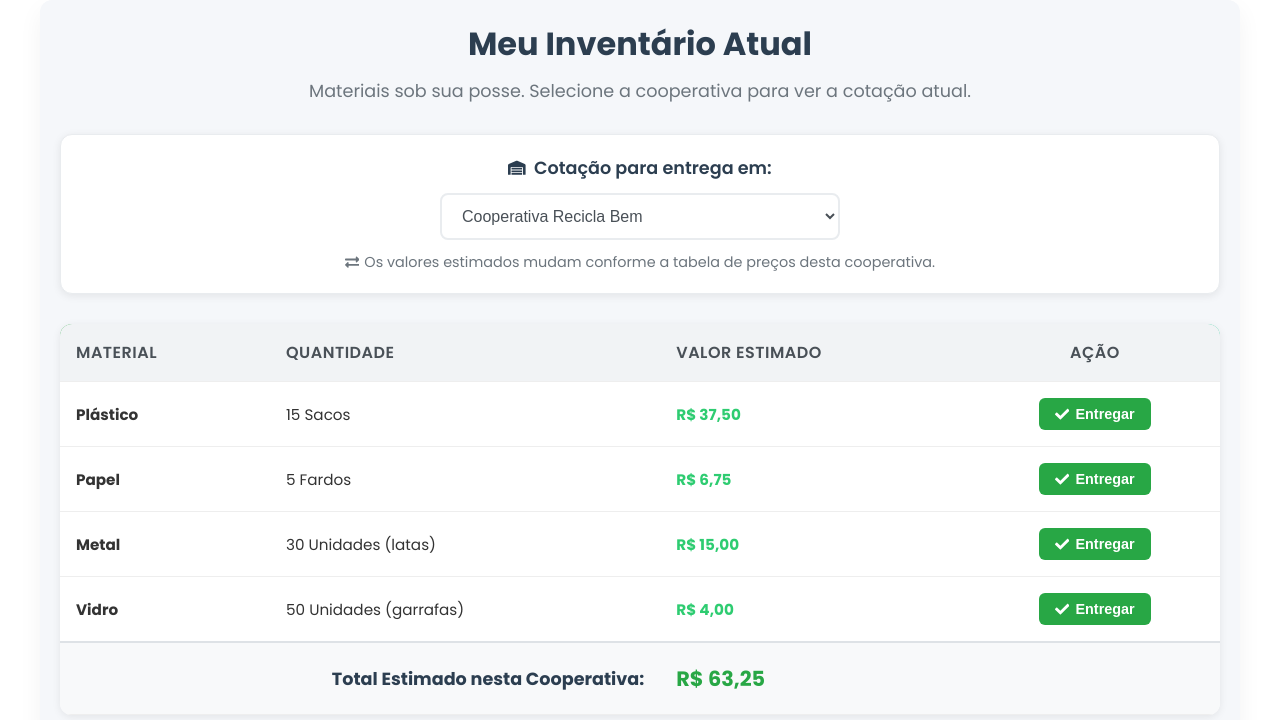
ColetorInventario - TDD › RED Phase - Testes que devem falhar inicialmente › deve atualizar valores ao trocar de cooperativa
This screenshot has width=1280, height=720.
# Troca para Central Verde
Step 1. Select "Central Verde" in the dropdown → x=640, y=216, box [440,193,840,240]
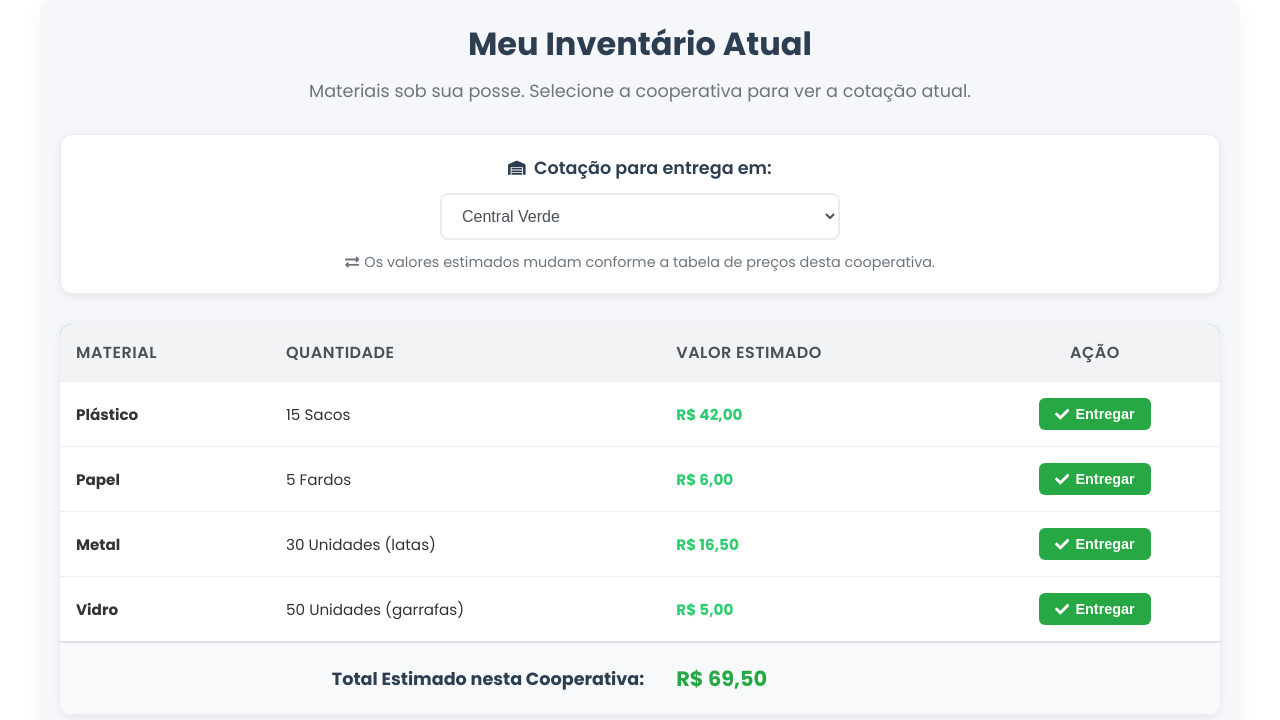
Check: the text "R$ 69,50" is shown, box [660,642,1220,714]
